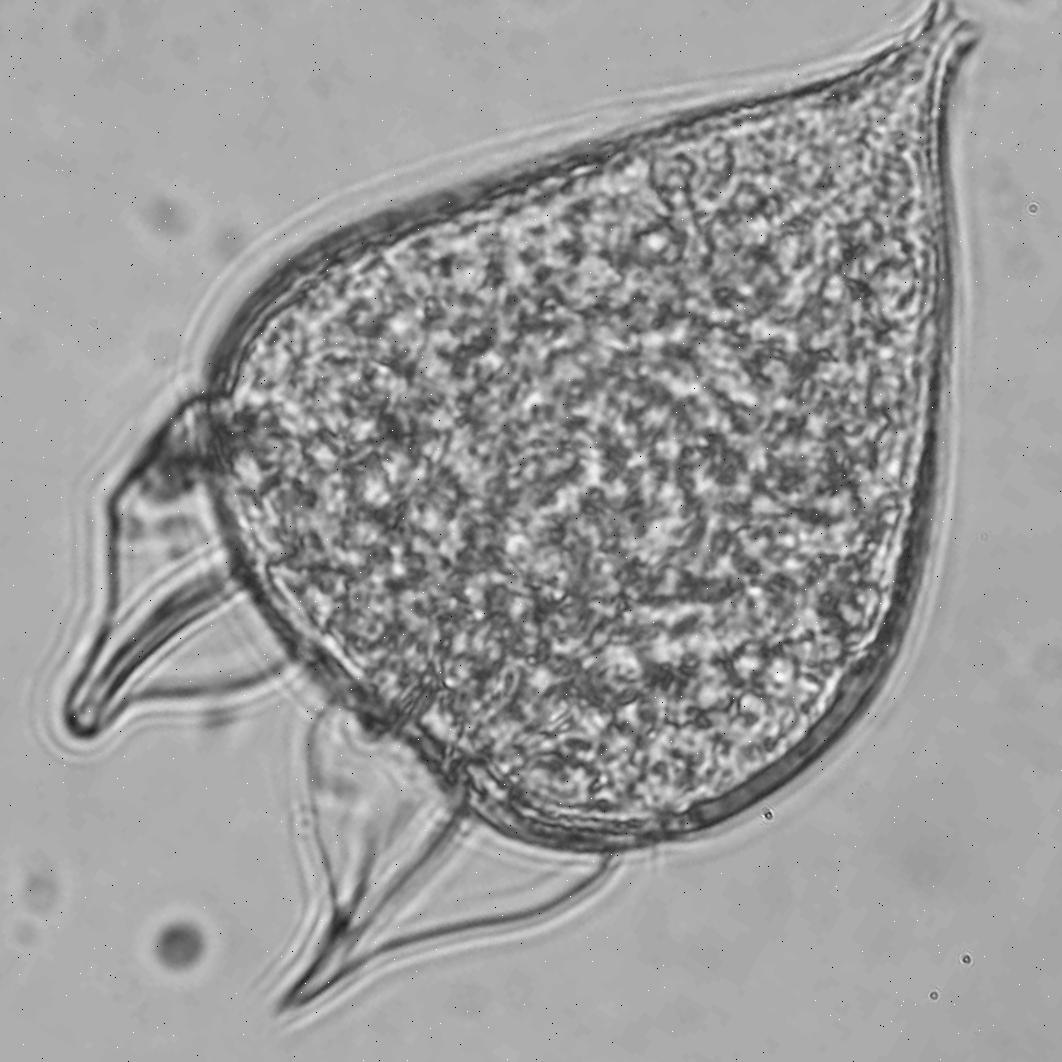podolampas_bipes: (68, 0, 982, 1009)
